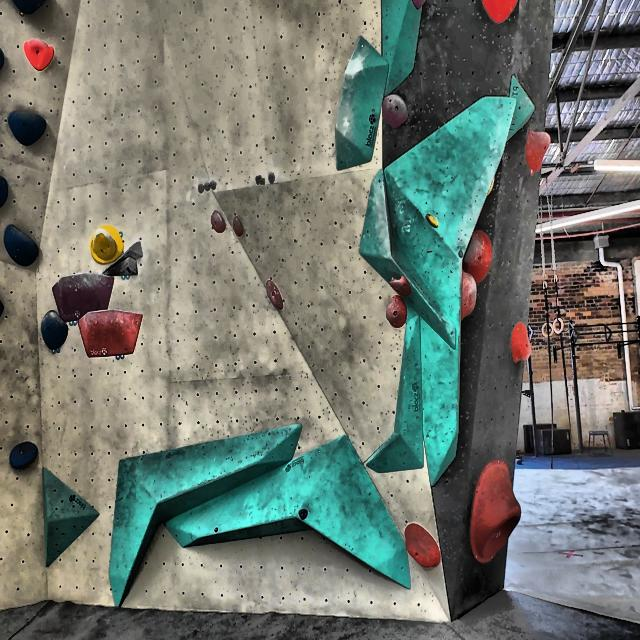Hold: (467, 454, 524, 565), (76, 308, 142, 354), (49, 275, 113, 319), (404, 522, 442, 572), (8, 107, 52, 149), (6, 226, 44, 271), (464, 224, 494, 280), (456, 270, 484, 326), (91, 222, 125, 266), (23, 30, 55, 74), (38, 313, 70, 349), (512, 322, 538, 362), (528, 128, 550, 172), (8, 440, 40, 468), (483, 0, 519, 24), (384, 97, 411, 128), (384, 296, 405, 332), (12, 0, 48, 20), (262, 276, 282, 312), (387, 273, 410, 295), (229, 214, 244, 242), (209, 208, 226, 232), (0, 176, 8, 214), (0, 43, 8, 77), (406, 0, 433, 10)
